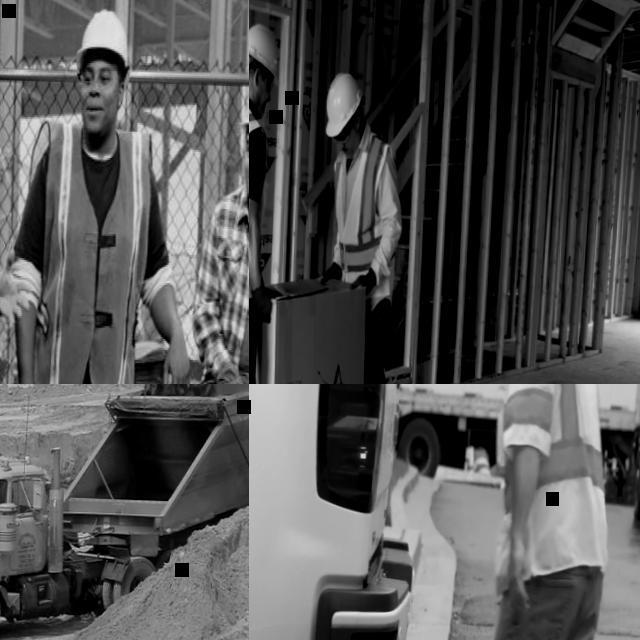Weapon: (8, 10, 210, 388), (305, 33, 450, 324), (240, 12, 301, 246)
objects: (75, 0, 160, 86), (326, 70, 387, 162), (245, 12, 293, 86)
